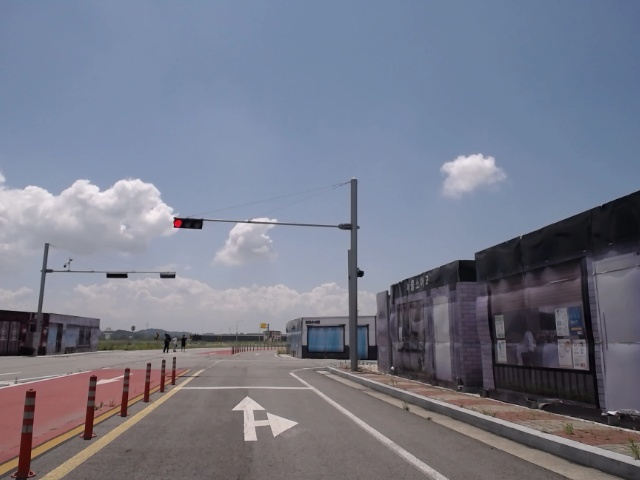red_3: (174, 219, 204, 229)
